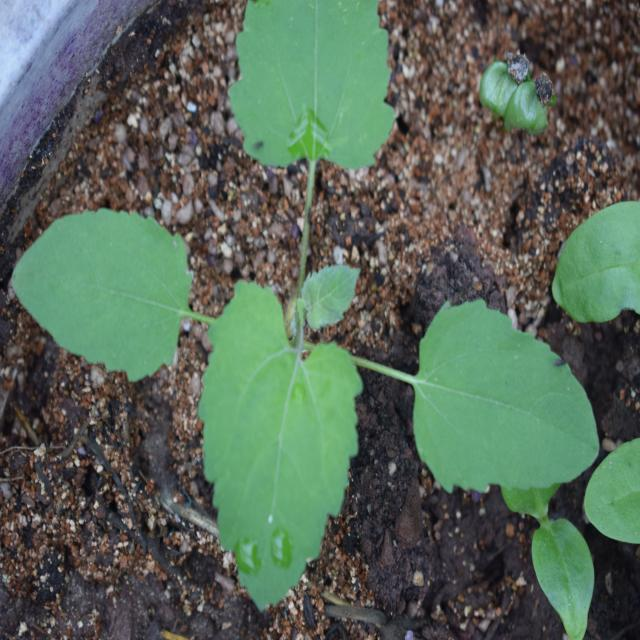cocklebur: (19, 12, 556, 544)
